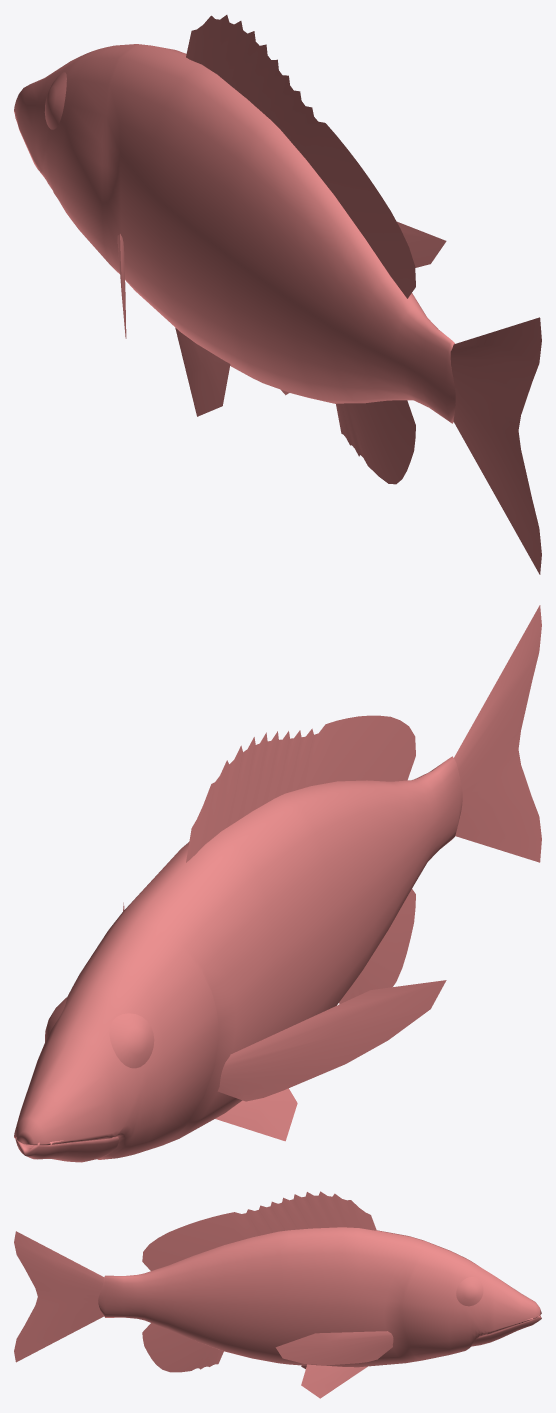
File: snapper_game.glb
The picture shows the model from 3 angles, top to bottom: view 1: azimuth 30°, elevation 25°; view 2: azimuth 150°, elevation 25°; view 3: azimuth 270°, elevation 25°; orthographic projection. The views are drawn at different scales.
Parts seen in each view (by area): view 1: snapper_game; view 2: snapper_game; view 3: snapper_game.
Boxes of the visible parts, x1=… form: snapper_game: x1=14, y1=15, x2=541, y2=574; snapper_game: x1=14, y1=605, x2=541, y2=1162; snapper_game: x1=14, y1=1191, x2=541, y2=1398.
Size of the model in its own units: 0.2526 by 0.2884 by 0.7025.
